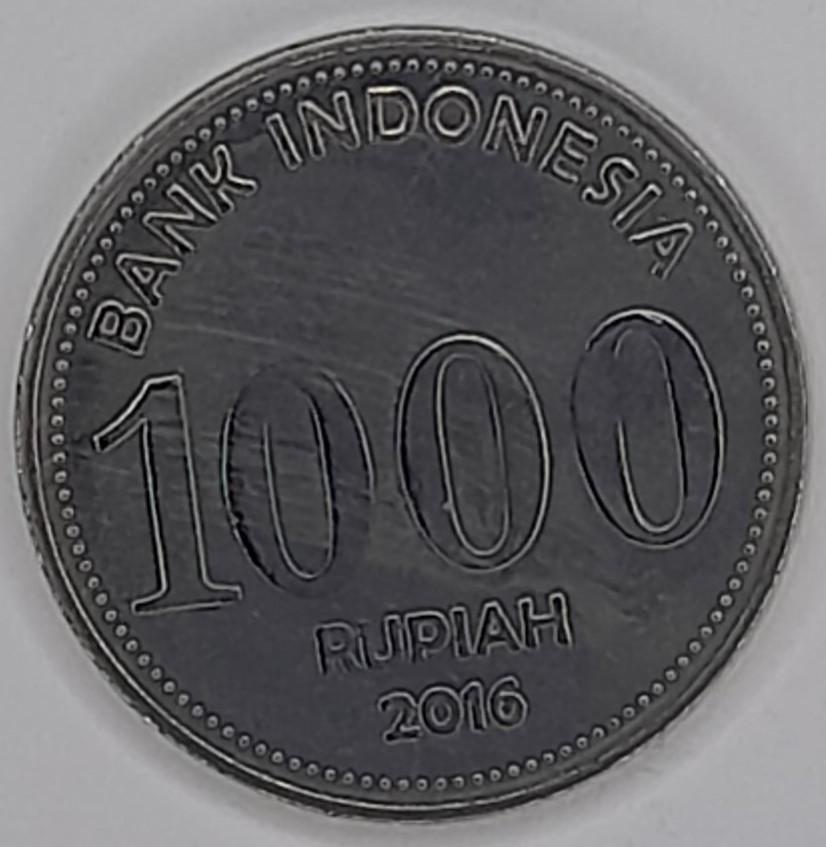coin_1000_e2016: (14, 17, 815, 847)
